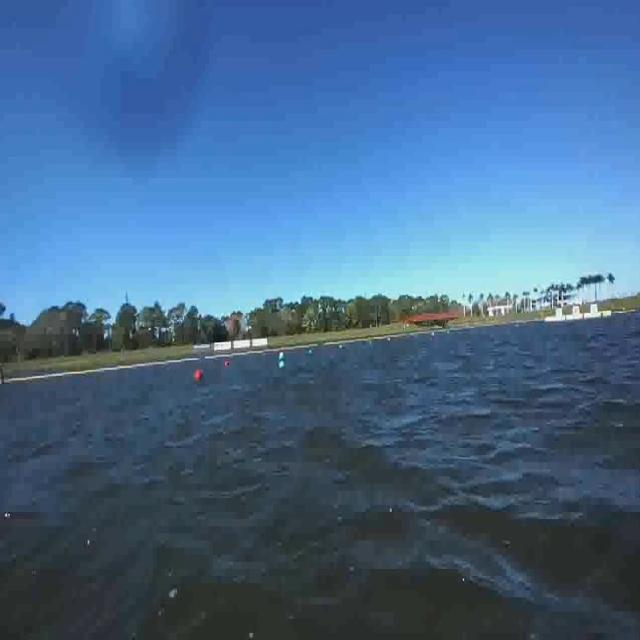green-buoy: (276, 358, 286, 376)
red-buoy: (196, 368, 203, 378), (225, 359, 229, 367)
